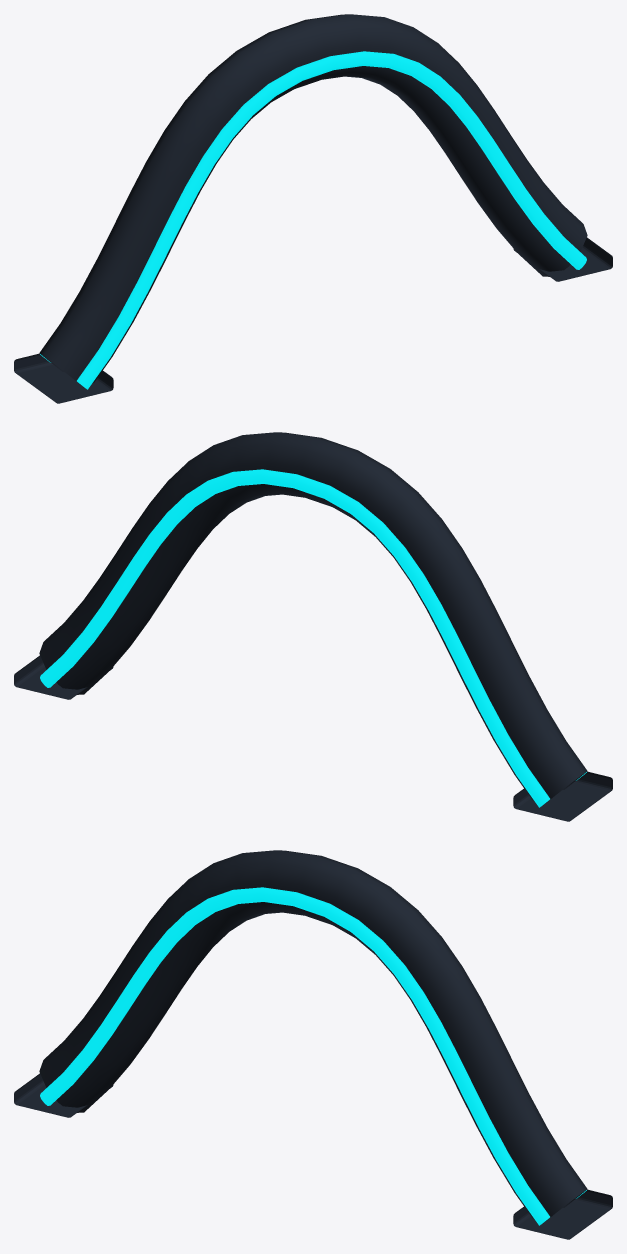
Rendered from GatewayArch.glb.
The picture shows the model from 3 angles, top to bottom: view 1: azimuth 30°, elevation 25°; view 2: azimuth 150°, elevation 25°; view 3: azimuth 330°, elevation 25°; orthographic projection.
Parts seen in each view (by area): view 1: Arch_Body, Arch_Light, Arch_FootL, Arch_FootR; view 2: Arch_Body, Arch_Light2, Arch_FootL, Arch_FootR; view 3: Arch_Body, Arch_Light, Arch_FootR, Arch_FootL.
Boxes of the visible parts, x1,y1,x2,y2 form: Arch_Body: [39, 14, 587, 387]; Arch_Light: [77, 51, 586, 389]; Arch_FootL: [14, 353, 113, 403]; Arch_FootR: [513, 237, 612, 281]; Arch_Body: [39, 432, 587, 805]; Arch_Light2: [40, 469, 549, 807]; Arch_FootL: [513, 771, 612, 821]; Arch_FootR: [14, 655, 113, 699]; Arch_Body: [39, 850, 587, 1223]; Arch_Light: [40, 887, 549, 1225]; Arch_FootR: [513, 1189, 612, 1239]; Arch_FootL: [14, 1073, 113, 1117].
Bounding box in the file's own units: 58 × 31.12 × 8.
